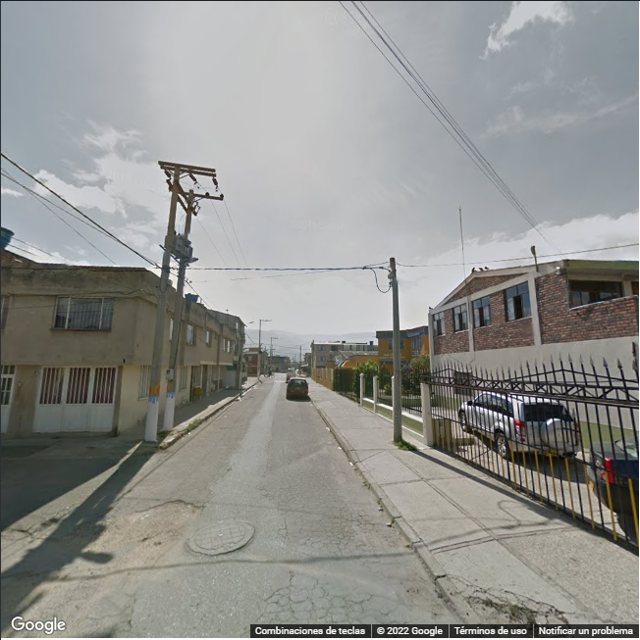D00: (276, 507, 298, 542)
D20: (259, 570, 403, 621)
D40: (117, 503, 204, 533)
